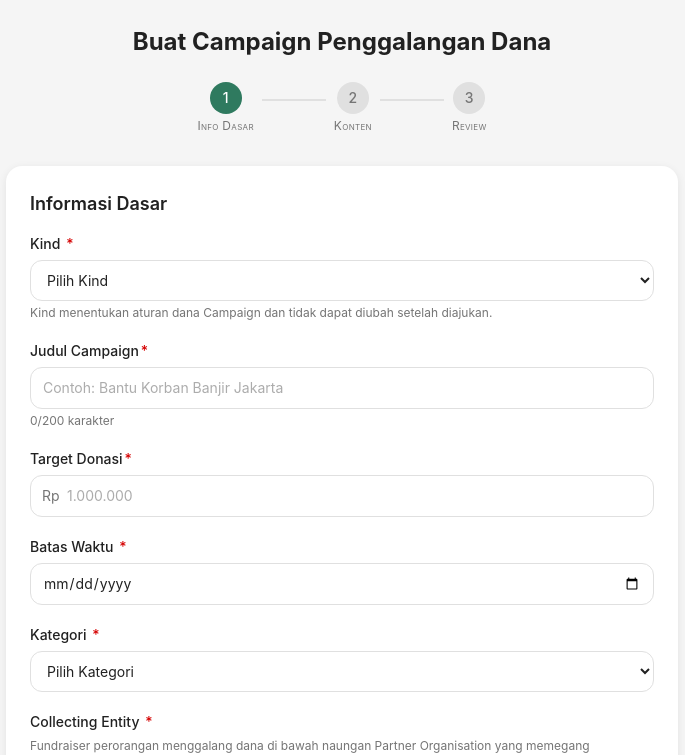
Test case: CampaignCreatePage review step › the Collecting Entity (prd-compliance 10, ADR 0010) › holds an individual Fundraiser on the first step until they pick a sponsoring organisation
Select "Donasi" in the dropdown labelled "Kind" at point(342, 280), box [30, 260, 654, 301]
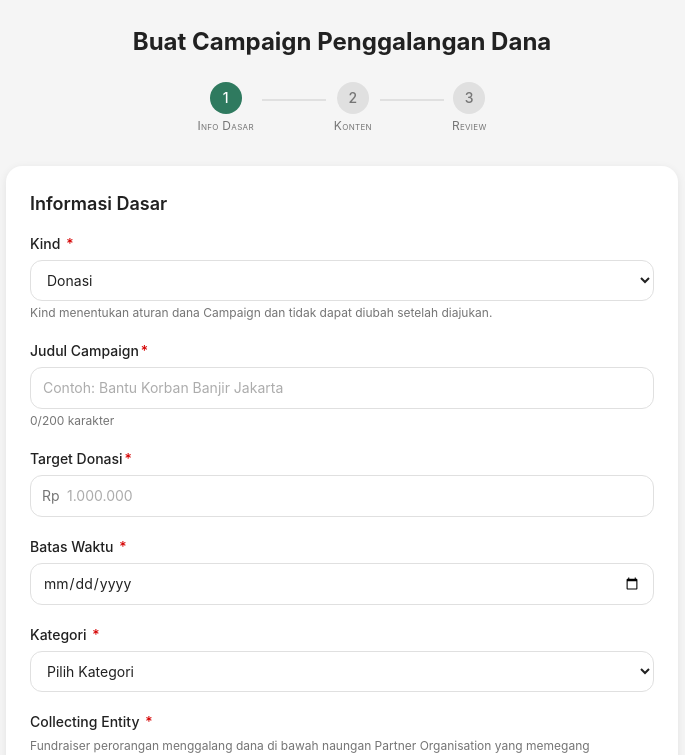
Type "Bantu Banjir" into the field with placeholder "Contoh: Bantu Korban Banjir Jakarta" at point(342, 388), box [30, 367, 654, 409]
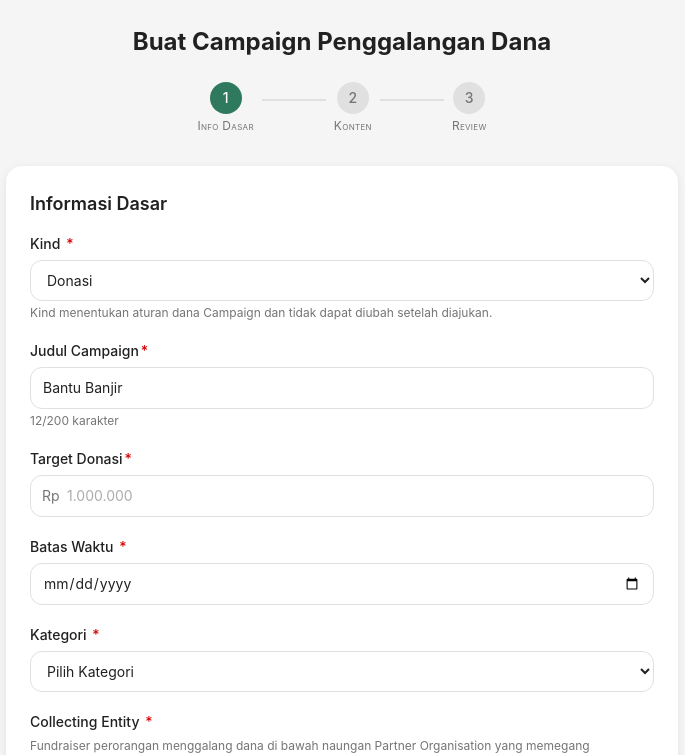
Type "5000000" into the field with placeholder "1.000.000" at point(342, 496), box [30, 475, 654, 517]
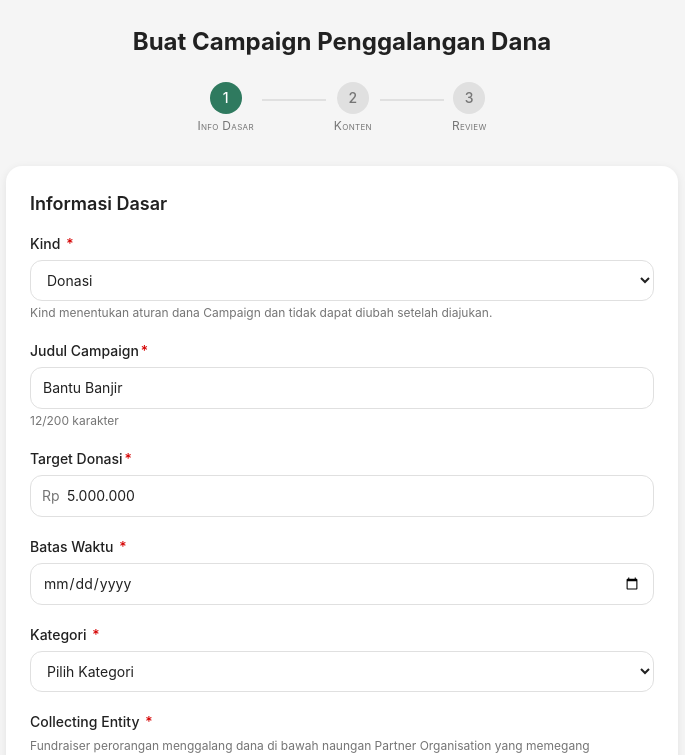
Type "2099-12-31" into the date field labelled "Batas Waktu *" at point(342, 584), box [30, 563, 654, 605]
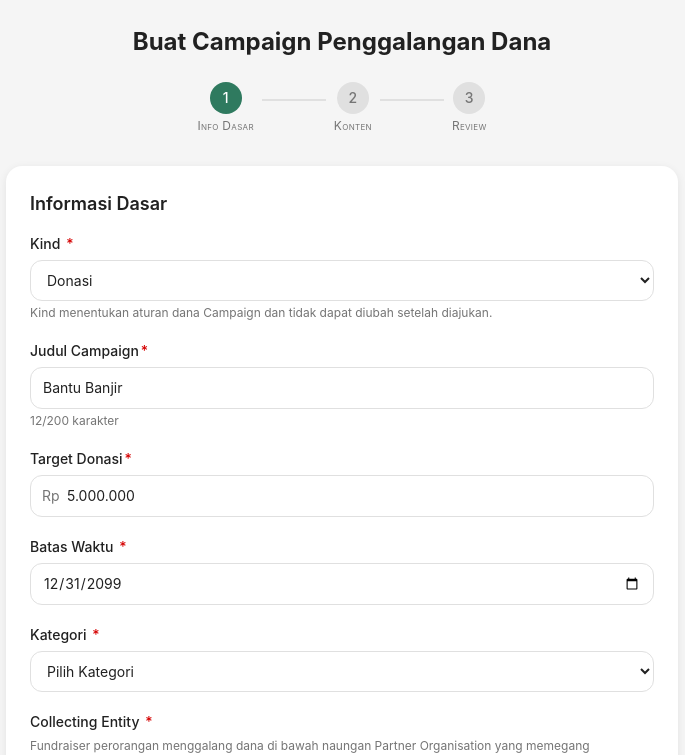
Select "Bencana Alam" in the dropdown named "Kategori" at point(342, 672), box [30, 651, 654, 692]
(page scrolled)
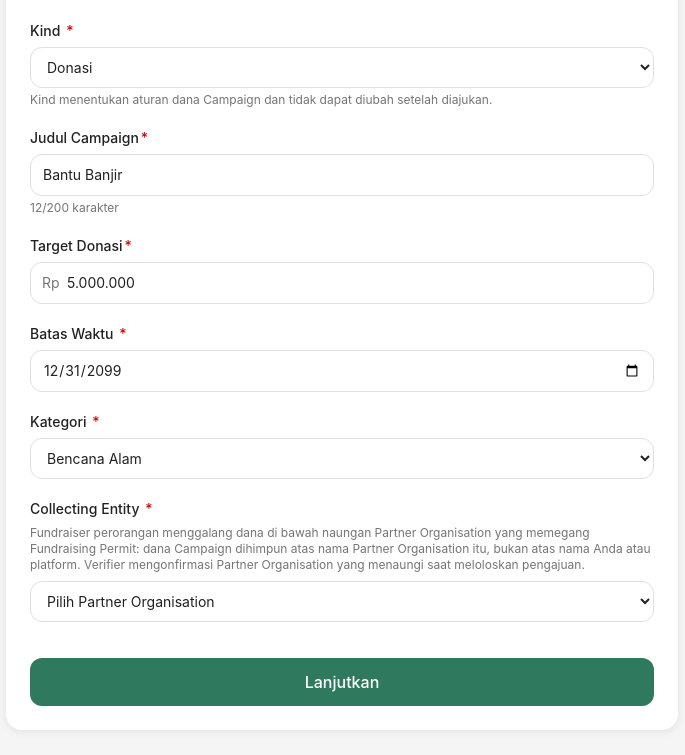
Click the button "Lanjutkan" at point(342, 682), box [30, 658, 654, 706]
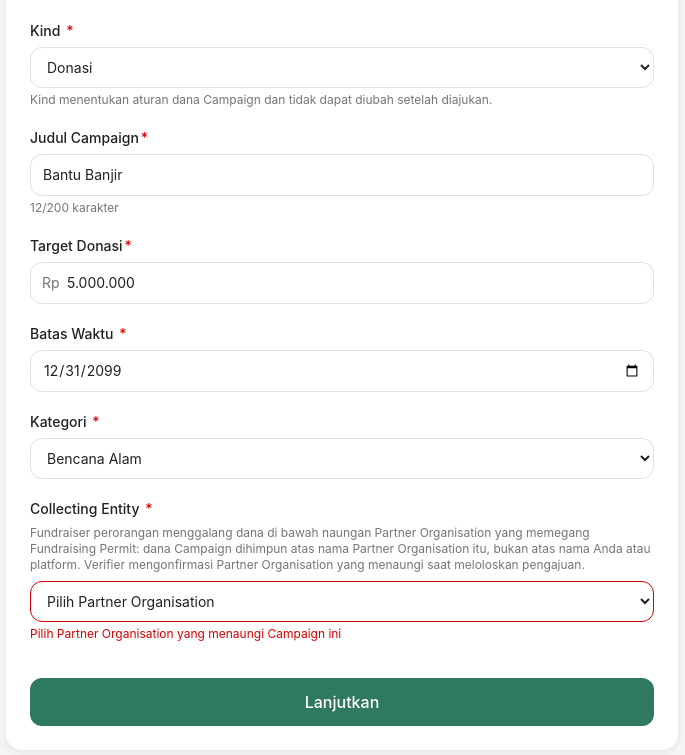
Expected: the text "Pilih Partner Organisation yang menaungi Campaign ini" is shown, [30, 626, 341, 641]
